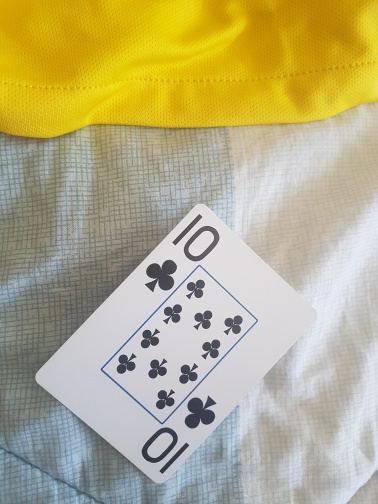ten: (37, 204, 319, 485)
